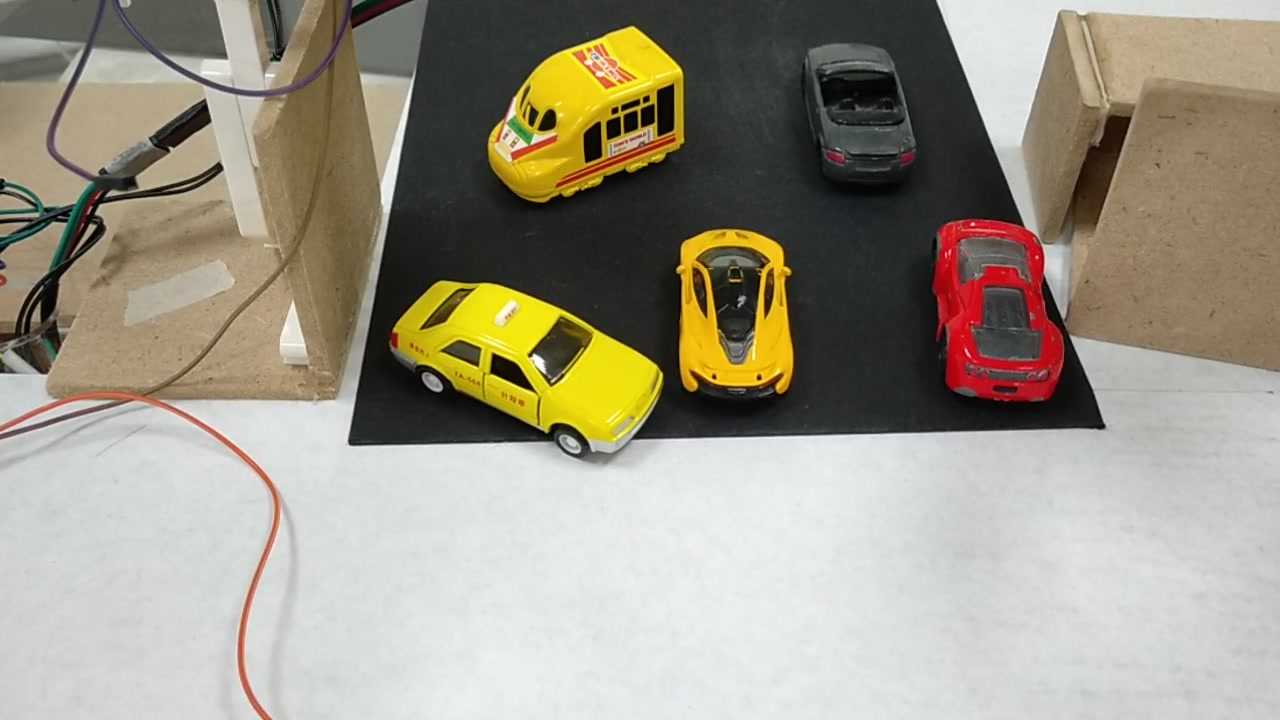car: (392, 277, 663, 464), (936, 215, 1065, 401), (677, 230, 792, 406), (793, 39, 915, 188)
